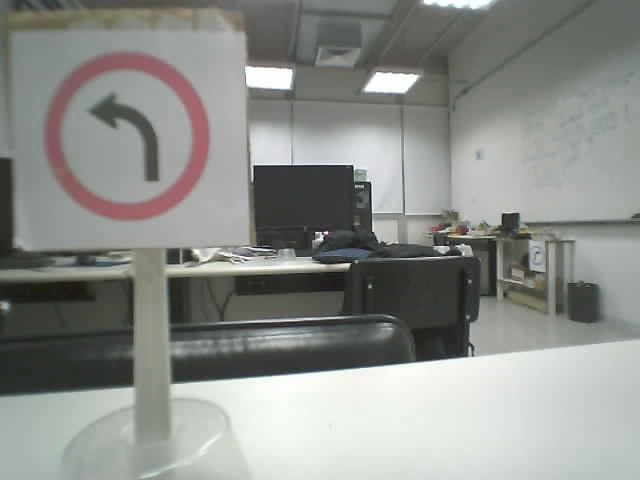R-25a_esquerda: (43, 51, 211, 220)
